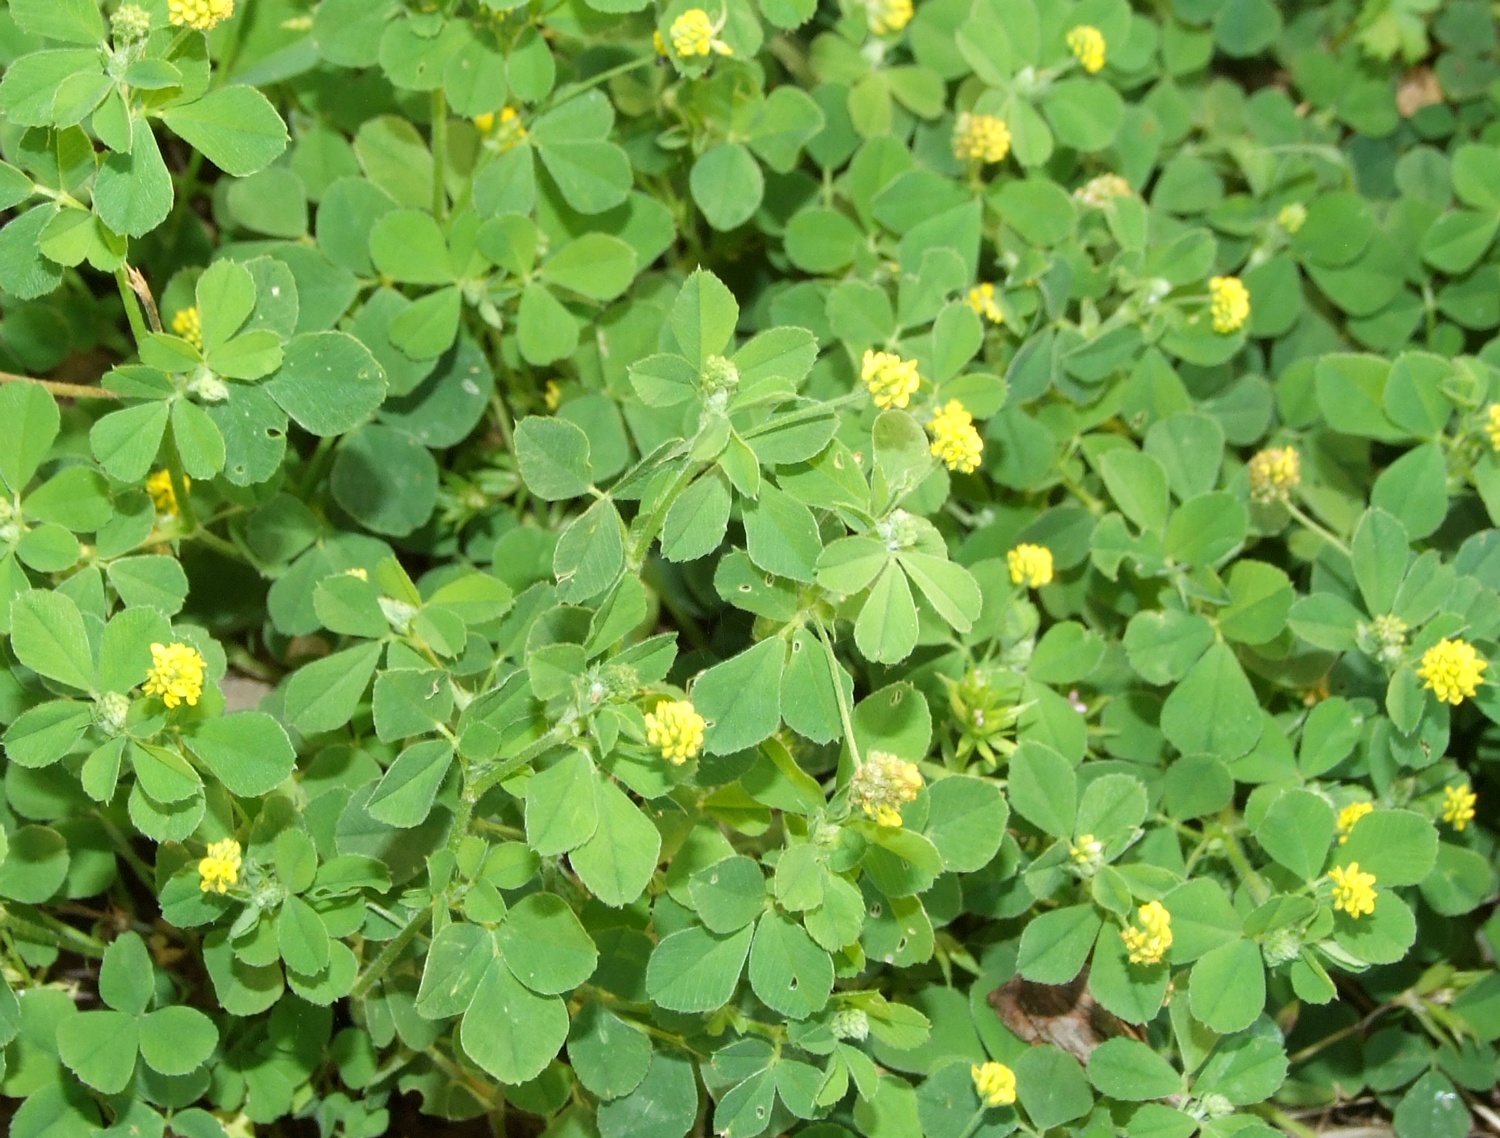clover: (8, 16, 1488, 1138)
